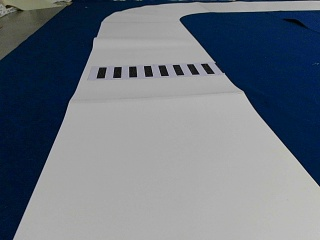crosswalk: (94, 63, 212, 78)
